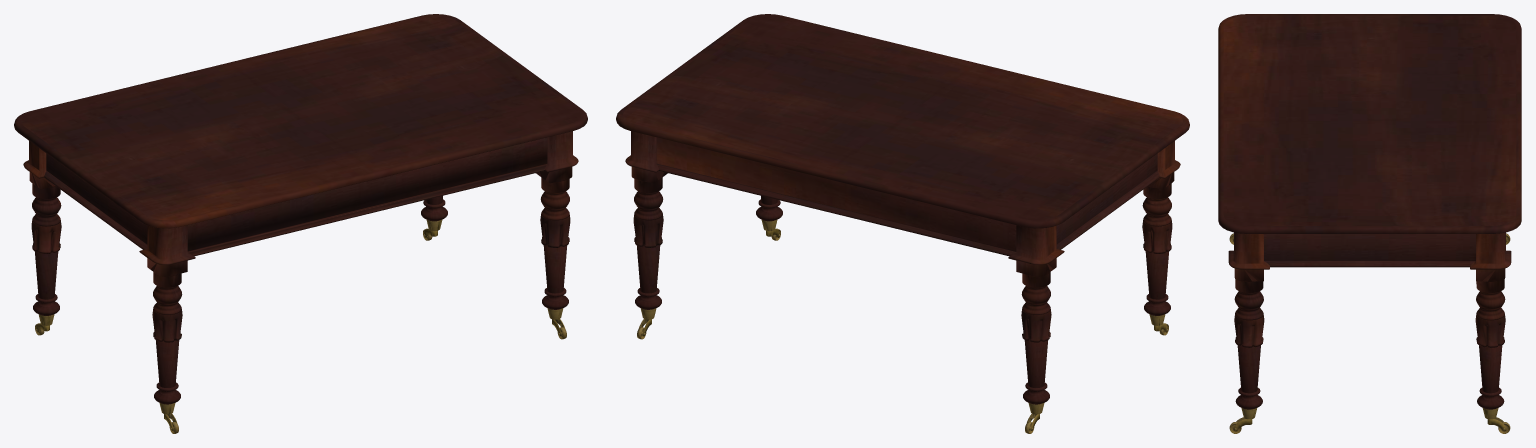
File: table-2.glb
The picture shows the model from 3 angles, left to right: view 1: azimuth 30°, elevation 25°; view 2: azimuth 150°, elevation 25°; view 3: azimuth 270°, elevation 25°; orthographic projection.
Visible parts, largest first — view 1: Table Top, Legs and Rails, Brass Wheels; view 2: Table Top, Legs and Rails, Brass Wheels; view 3: Table Top, Legs and Rails, Brass Wheels.
Boxes of the visible parts, box(x1,y1,x2,y2) form: Table Top: box(14, 14, 587, 228); Legs and Rails: box(23, 131, 578, 404); Brass Wheels: box(35, 219, 566, 433); Table Top: box(616, 14, 1189, 228); Legs and Rails: box(625, 131, 1180, 404); Brass Wheels: box(637, 219, 1168, 433); Table Top: box(1218, 14, 1521, 233); Legs and Rails: box(1228, 232, 1511, 409); Brass Wheels: box(1229, 233, 1510, 433).
Bounding box in the file's own units: 10.46 × 4.93 × 6.21.
3 materials, 3 textured.
